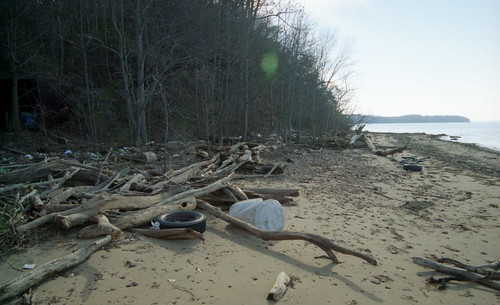sky: (301, 1, 496, 124)
trash: (105, 134, 298, 305)
vegetation: (1, 1, 342, 142)
